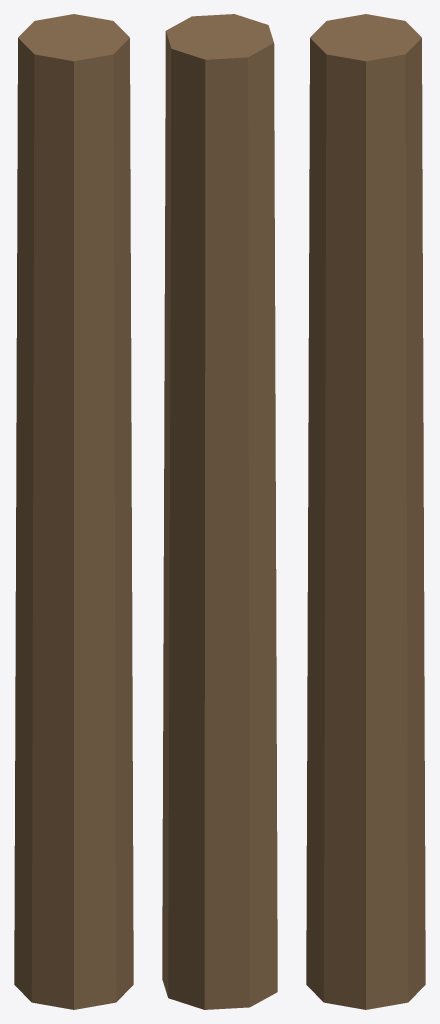
The model's file is Piling.fbx.
The picture shows the model from 3 angles, left to right: view 1: azimuth 90°, elevation 25°; view 2: azimuth 210°, elevation 25°; view 3: azimuth 270°, elevation 25°; orthographic projection.
Visible parts, largest first — view 1: Piling; view 2: Piling; view 3: Piling.
Boxes of the visible parts, x1=… form: Piling: x1=14, y1=14, x2=133, y2=1009; Piling: x1=162, y1=14, x2=277, y2=1009; Piling: x1=306, y1=14, x2=425, y2=1009.
Bounding box in the file's own units: 160 × 1400 × 160.
